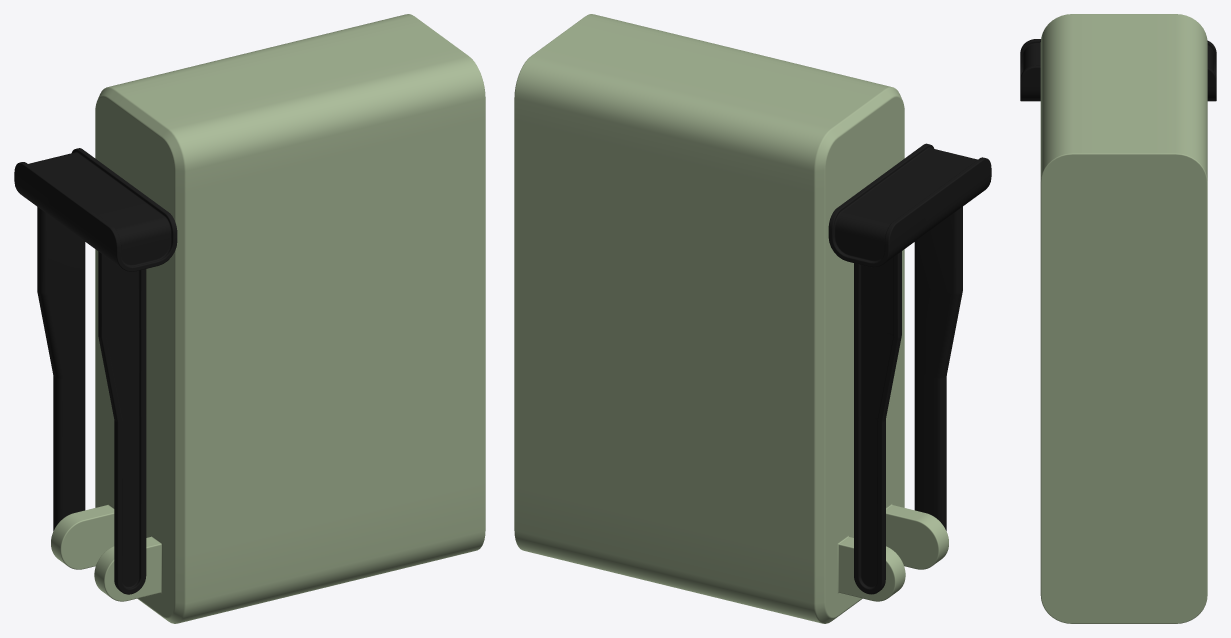
Rendered from Lever.fbx.
3 renders of one model, left to right at view 1: azimuth 30°, elevation 25°; view 2: azimuth 150°, elevation 25°; view 3: azimuth 270°, elevation 25°, orthographic. The views are drawn at different scales.
Parts seen in each view (by area): view 1: modul mig.006; view 2: modul mig.006; view 3: modul mig.006.
Boxes of the visible parts, left/top/right/bottom form: modul mig.006: left=14, top=14, right=485, bottom=623; modul mig.006: left=514, top=14, right=991, bottom=623; modul mig.006: left=1020, top=14, right=1216, bottom=623.
Bounding box in the file's own units: 29.86 × 37.03 × 14.01.
